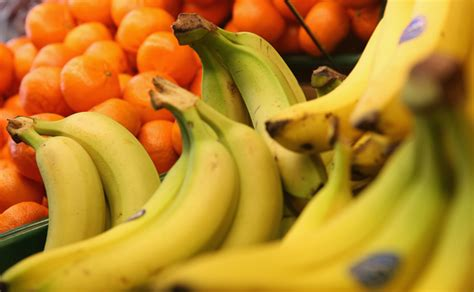banana: (1, 129, 243, 290), (215, 28, 330, 206), (57, 113, 162, 224), (29, 138, 113, 266)
